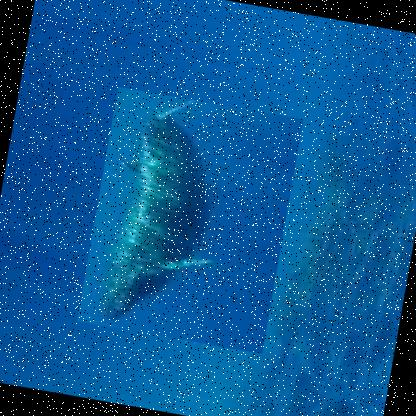blue_whale: (74, 86, 302, 354)
